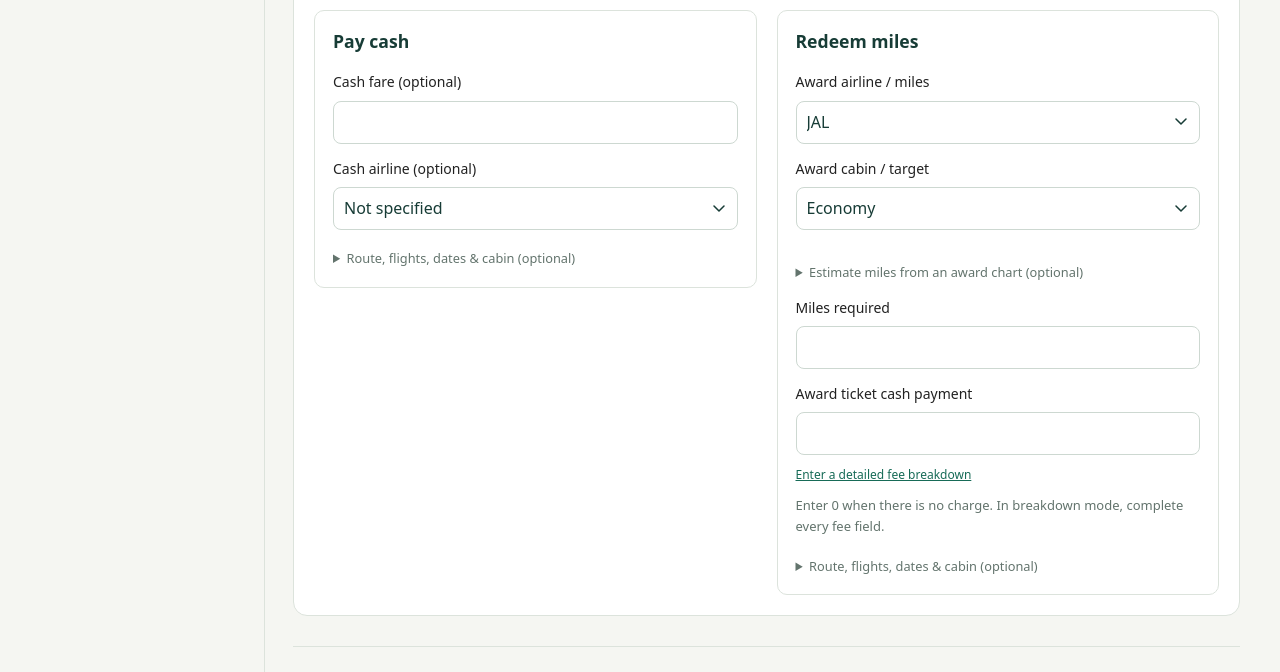
Test case: comparison workflow › can estimate without cash and supports detailed fuel charges
(page scrolled)
Type "20000" into the number field labelled "Miles required" at (998,348), box [796,326,1200,369]
Type "5000" into the number field labelled "Award ticket cash payment" at (998,434), box [796,412,1200,456]
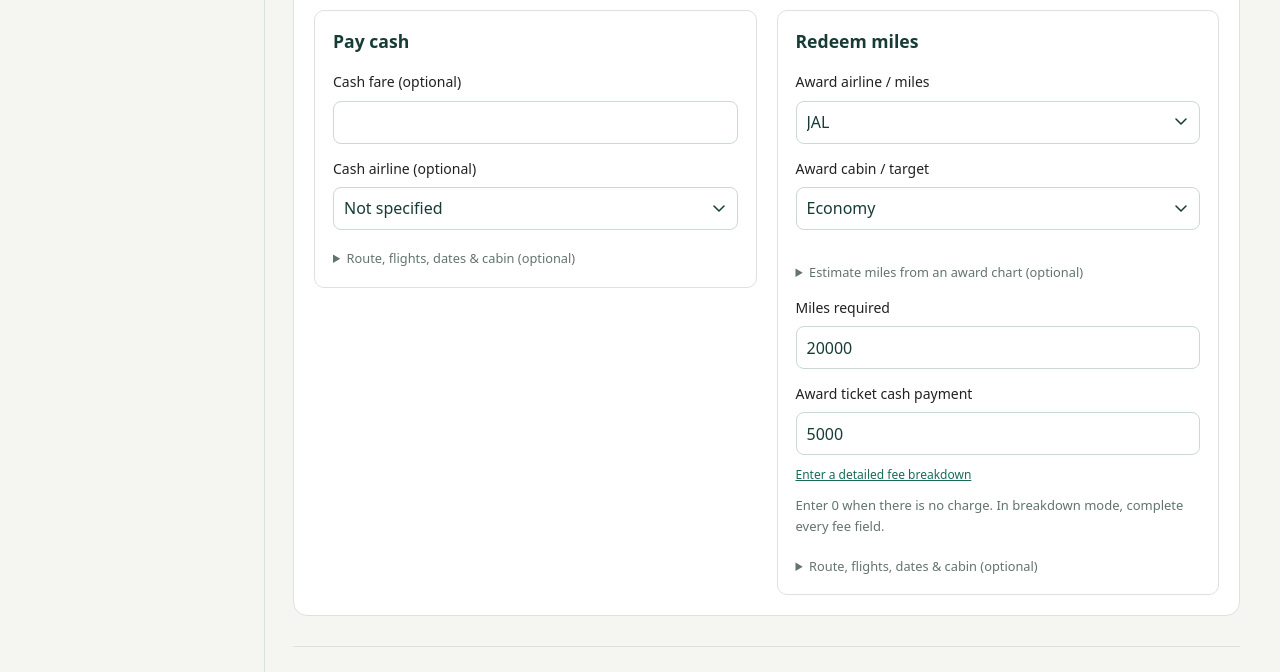
Click the button "Enter a detailed fee breakdown" at (883,475), box [796,456,971,495]
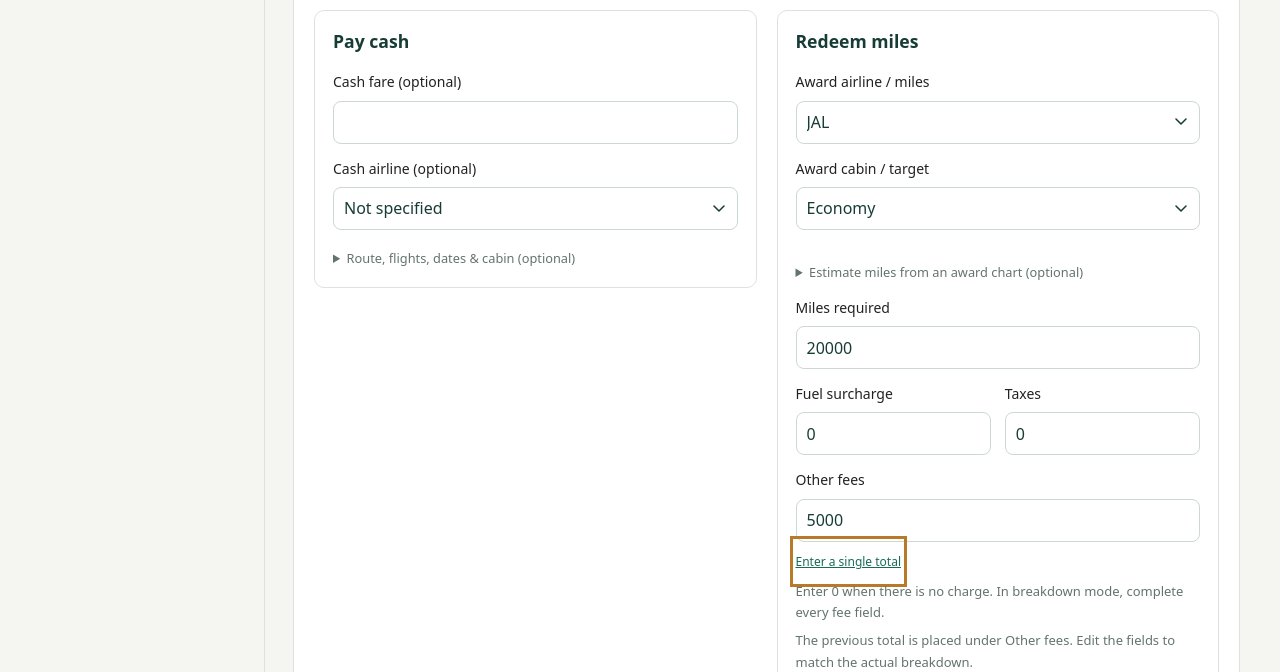
Replace the text in the number field labelled "Fuel surcharge" with "3000" at (893,434), box [796,412,991,456]
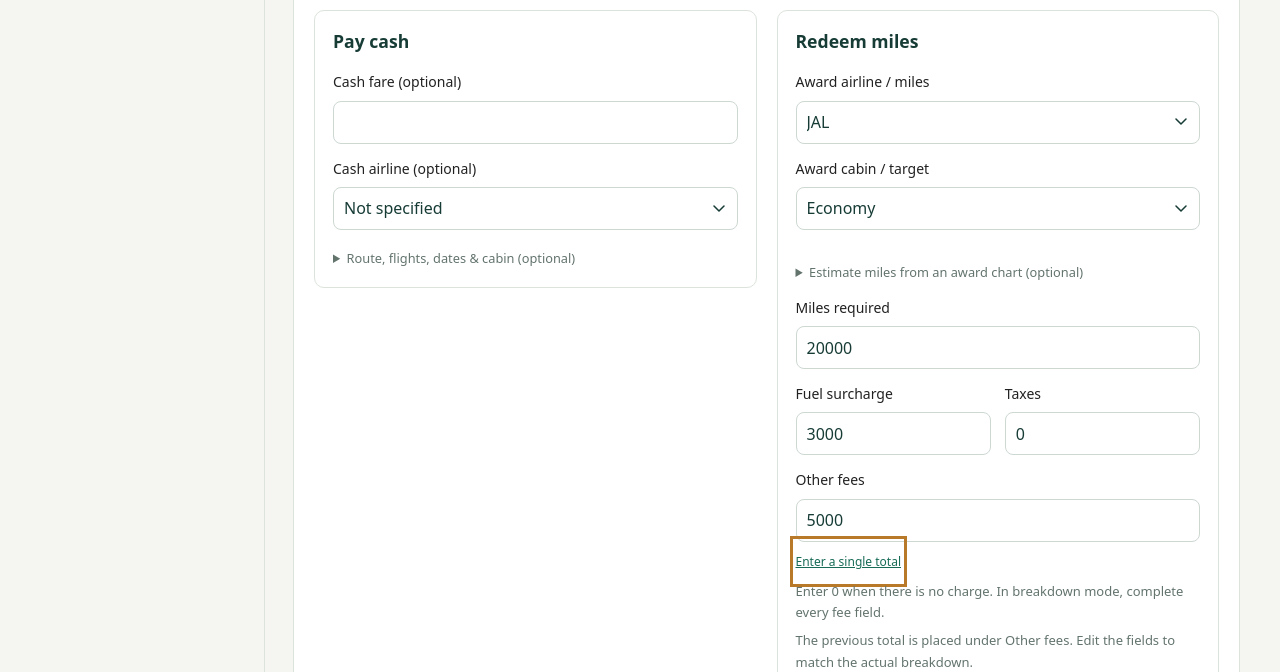
Replace the text in the number field labelled "Taxes" with "1500" at (1102,434), box [1005,412,1200,456]
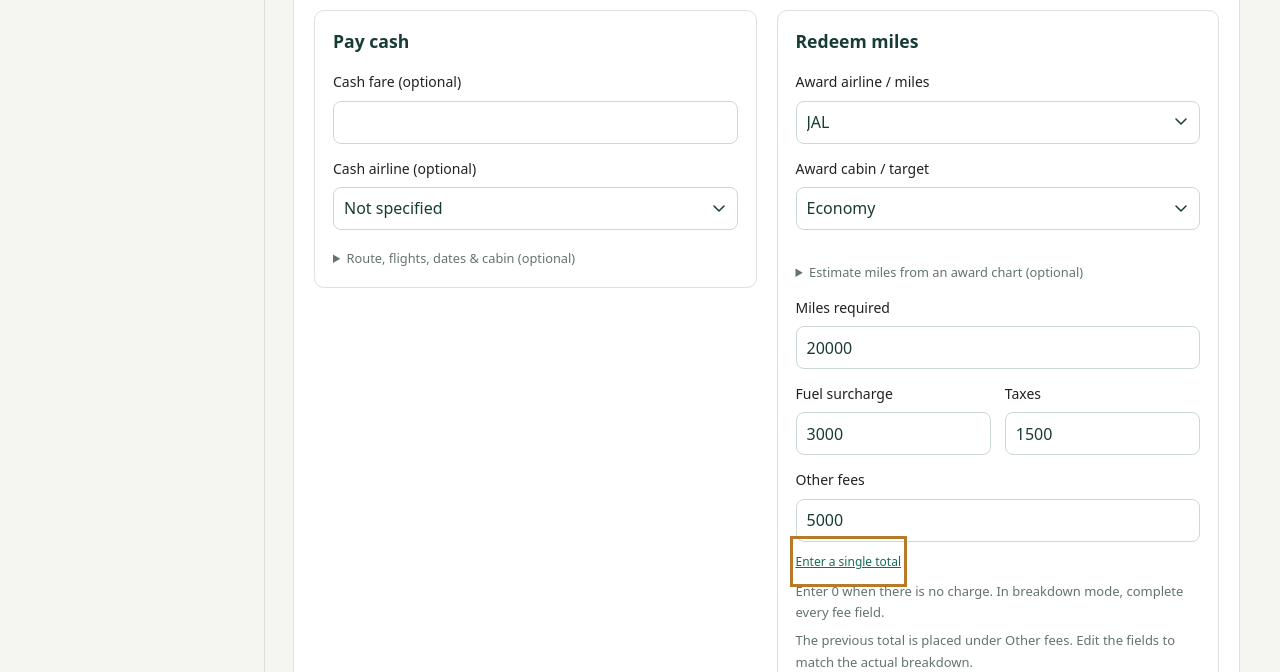
Replace the text in the number field labelled "Other fees" with "500" at (998,520), box [796,499,1200,542]
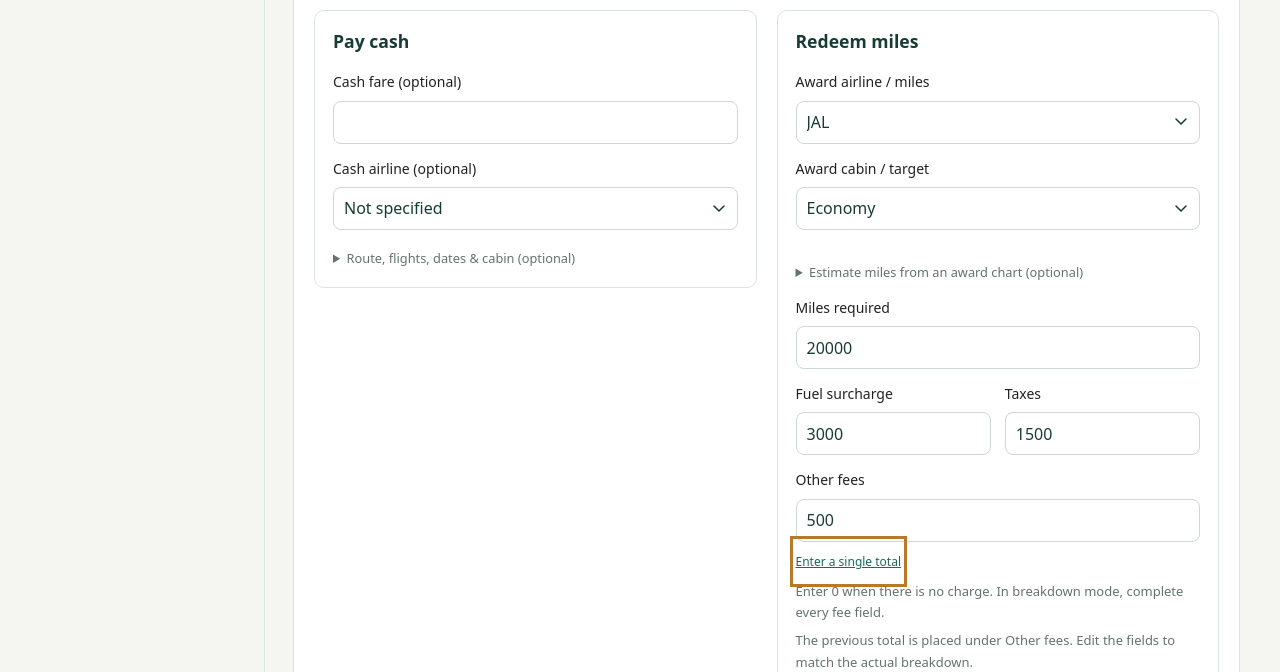
Type "50000" into the number field labelled "Cash fare (optional)" at (535,122), box [333,101,738,144]
(page scrolled)
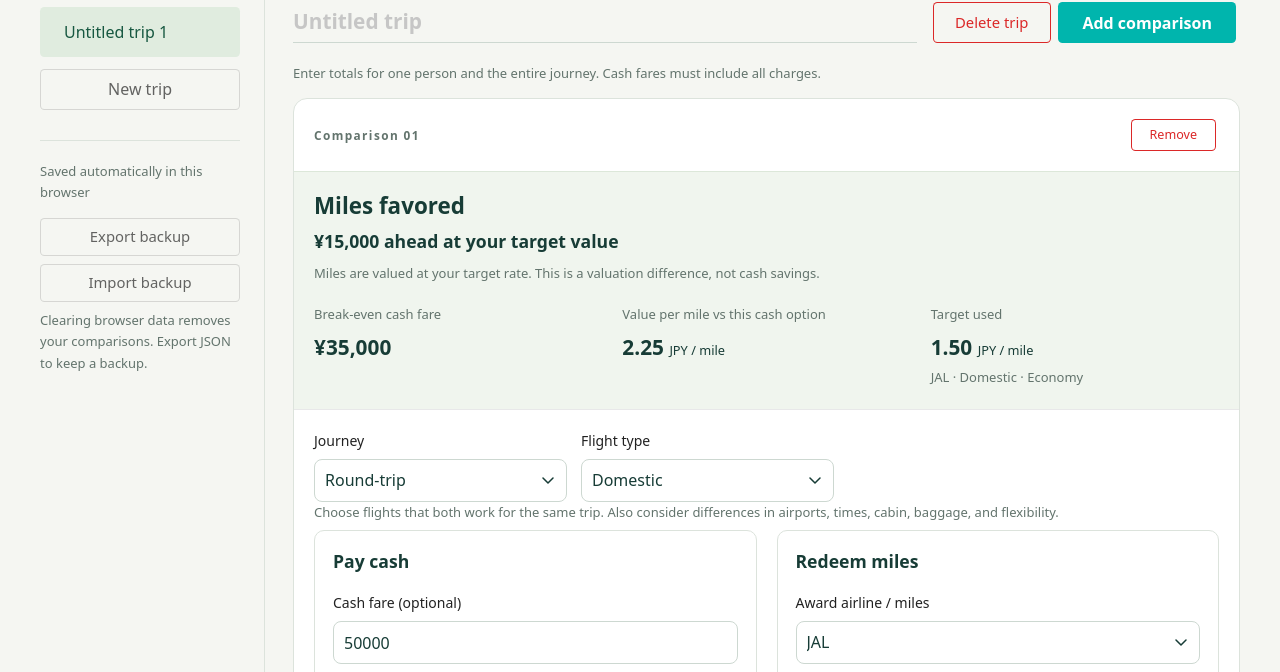
Now the text "2.25" is shown, box [622,333,664,361]
